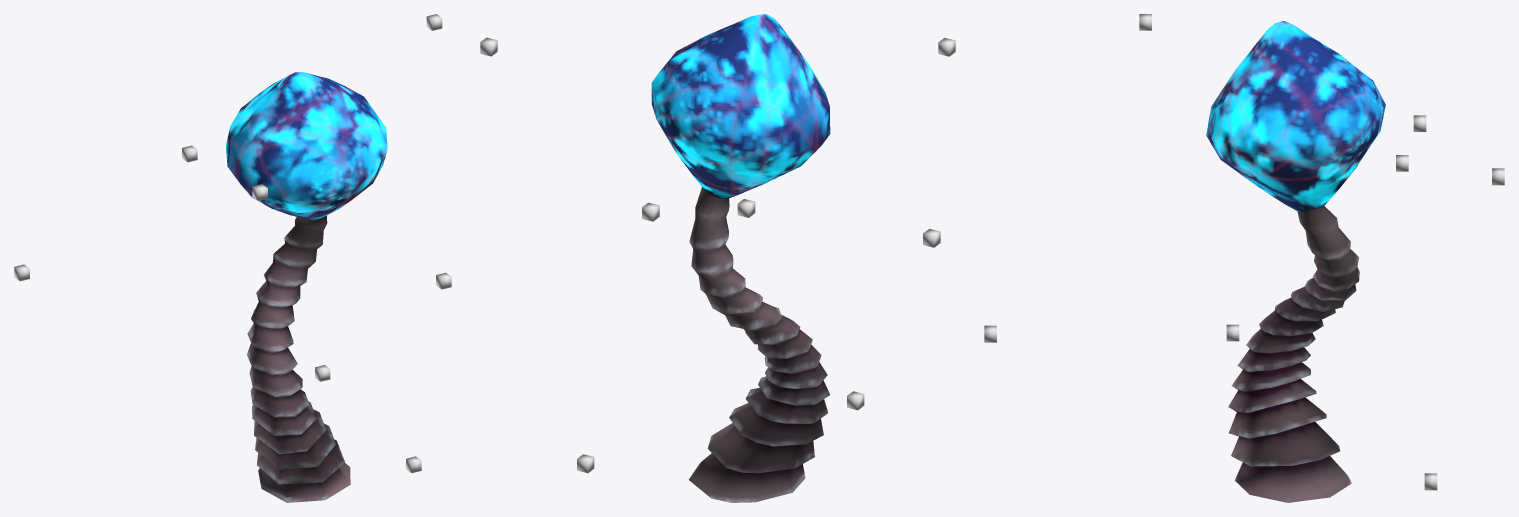
Rendered from 4 grib.fbx.
The picture shows the model from 3 angles, left to right: view 1: azimuth 30°, elevation 25°; view 2: azimuth 150°, elevation 25°; view 3: azimuth 270°, elevation 25°; orthographic projection. The views are drawn at different scales.
Visible parts, largest first — view 1: lp1.006, lp1.001; view 2: lp1.006, lp1.001; view 3: lp1.006, lp1.001.
Part boxes in pixels (x1,y1,x2,y2): lp1.006: (226, 72, 387, 502); lp1.001: (14, 14, 451, 472); lp1.006: (651, 14, 830, 502); lp1.001: (480, 37, 955, 473); lp1.006: (1206, 21, 1385, 502); lp1.001: (984, 14, 1504, 490).
Size of the model in its own units: 1674 by 1752 by 1802.
